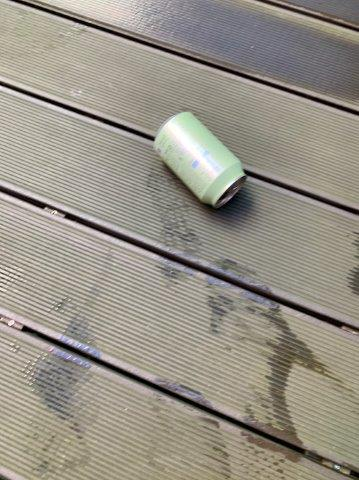kaleng: (156, 113, 246, 206)
